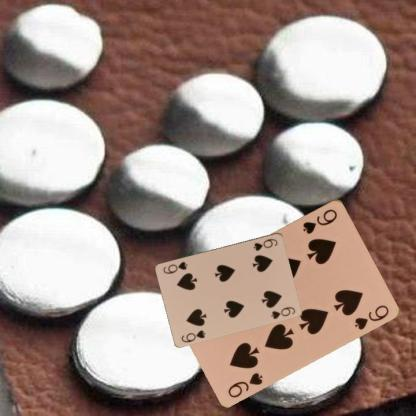6s: (178, 327, 207, 343), (251, 236, 279, 252)
9s: (225, 369, 264, 399), (300, 206, 338, 235)
